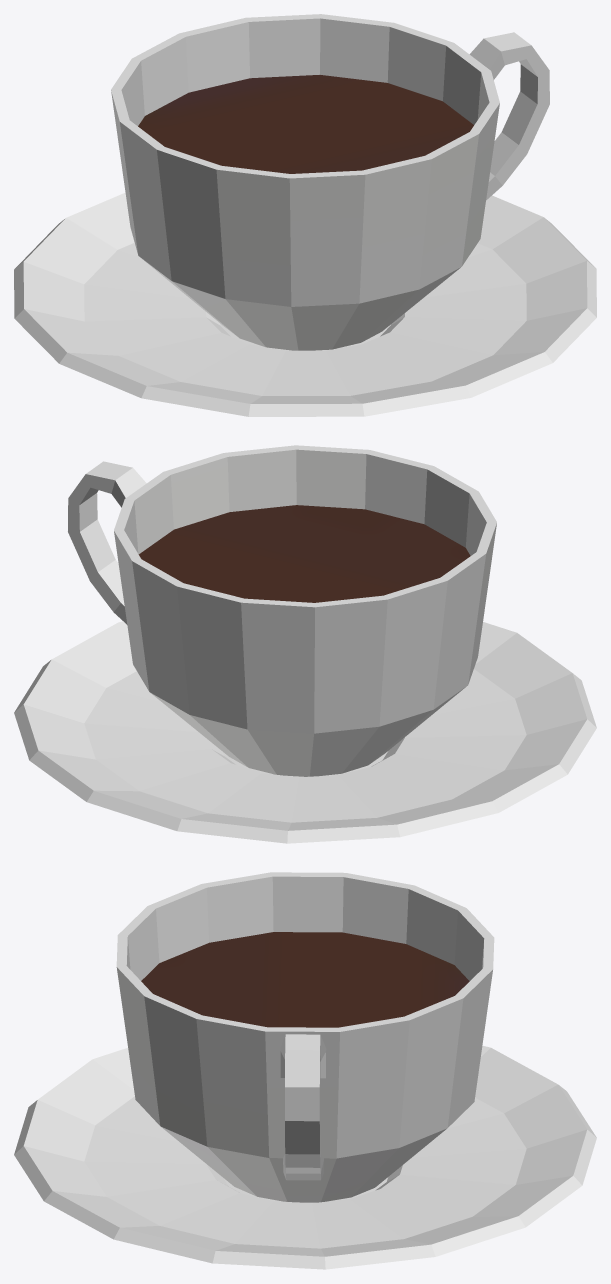
Rendered from cup-of-tea.glb.
3 renders of one model, top to bottom at view 1: azimuth 30°, elevation 25°; view 2: azimuth 150°, elevation 25°; view 3: azimuth 270°, elevation 25°, orthographic.
Visible parts, largest first — view 1: Cup_of_tea; view 2: Cup_of_tea; view 3: Cup_of_tea.
Boxes of the visible parts, box(x1,y1,x2,y2) form: Cup_of_tea: box(14, 14, 596, 416); Cup_of_tea: box(14, 445, 596, 843); Cup_of_tea: box(14, 872, 596, 1269).
Size of the model in its own units: 0.1808 by 0.0808 by 0.1808.
1 material, 1 textured.
